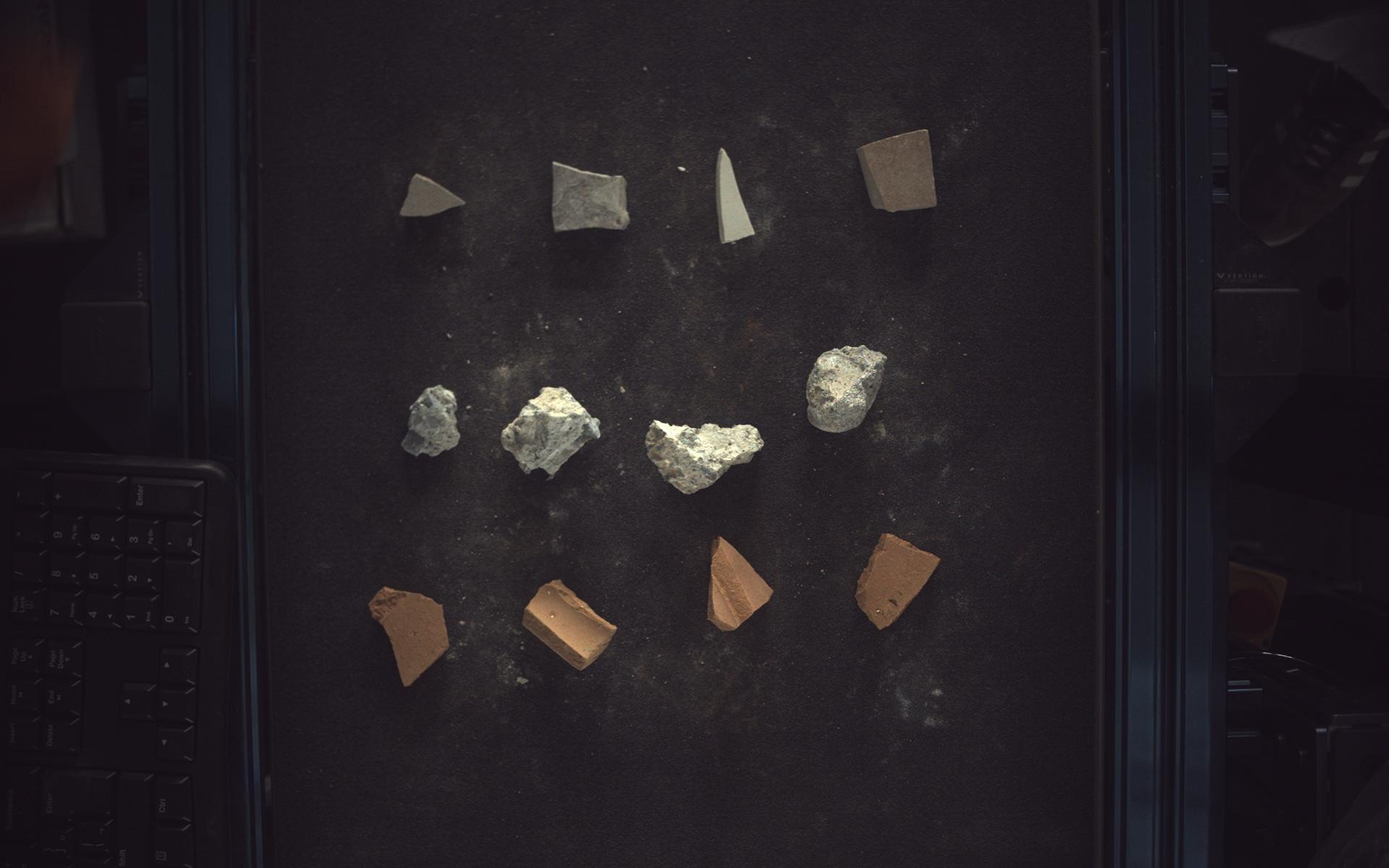brick: (523, 581, 617, 671), (857, 534, 942, 630), (369, 588, 449, 687), (708, 537, 774, 632)
concrete: (501, 387, 601, 478), (647, 420, 765, 494), (807, 345, 887, 433), (402, 386, 460, 457)
tile: (859, 128, 939, 211), (553, 161, 631, 231), (717, 147, 756, 243), (400, 173, 465, 216)
